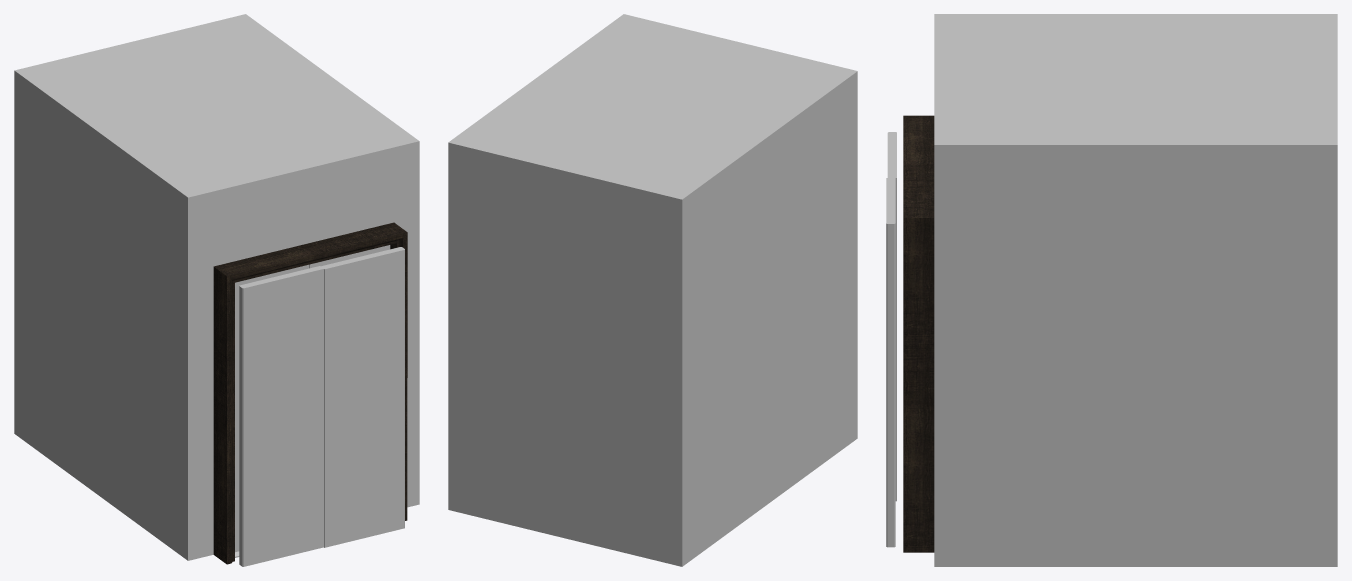
File: elevator_2.fbx
3 views of the same model, side by side, from view 1: azimuth 30°, elevation 25°; view 2: azimuth 150°, elevation 25°; view 3: azimuth 270°, elevation 25° (orthographic). The views are drawn at different scales.
Parts seen in each view (by area): view 1: elevator_2, elevator_door_3_b, elevator_door_3_a, elevator_door_4_b; view 2: elevator_2; view 3: elevator_2, elevator_door_3_a, elevator_door_3_b.
Part boxes in pixels (box(x1,y1,x2,y2)): elevator_2: box(14, 14, 419, 564); elevator_door_3_b: box(239, 266, 323, 566); elevator_door_3_a: box(321, 247, 404, 547); elevator_door_4_b: box(235, 264, 309, 552); elevator_2: box(448, 14, 857, 566); elevator_2: box(903, 14, 1337, 566); elevator_door_3_a: box(886, 178, 895, 547); elevator_door_3_b: box(887, 132, 896, 501).
Bounding box in the file's own units: 2 × 2.91 × 3.
